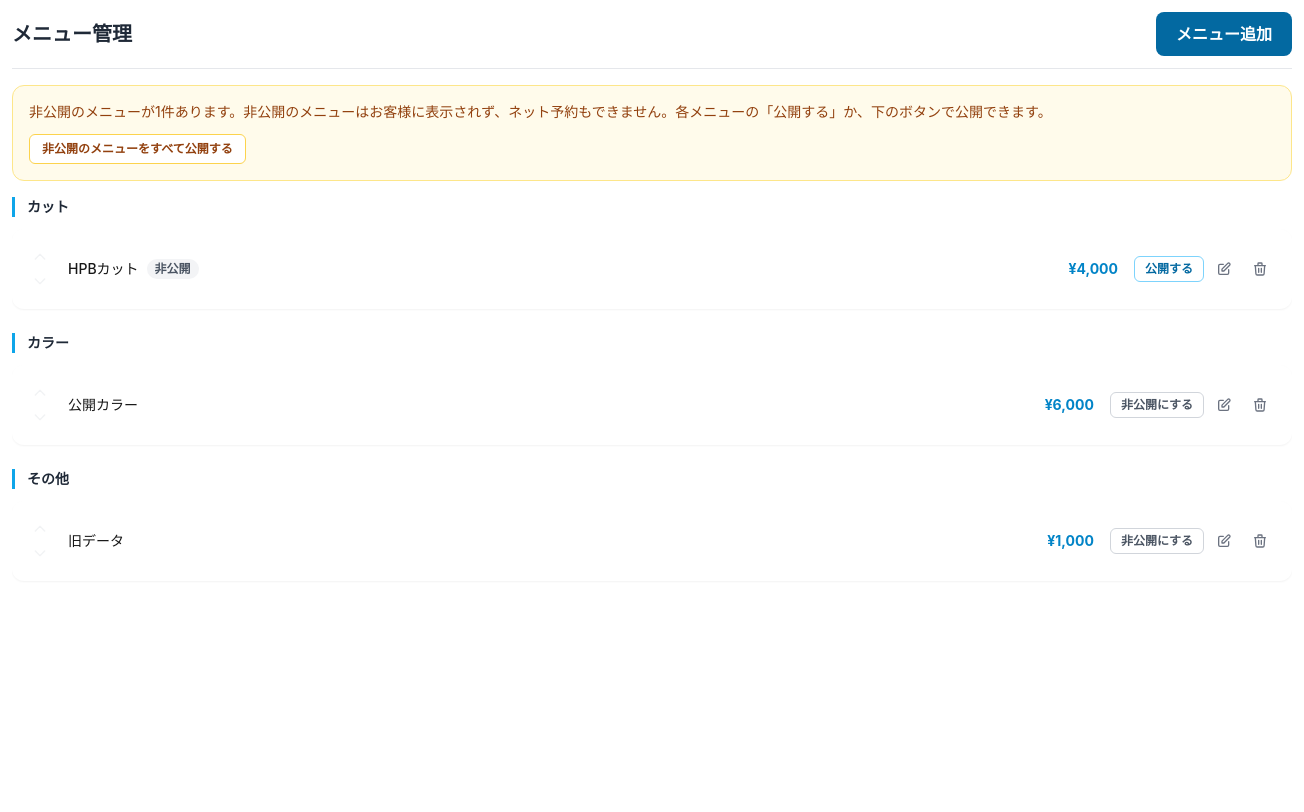
Test: 公開中のメニューは非公開にできる
expect the text "公開カラー" is shown: met, box x1=68 y1=395 x2=138 y2=415
What coordinates should you click on to do the following:
click the button with aria-label "公開カラーを非公開にする"
I would click on:
 (1157, 405)
Its box is x1=1110 y1=392 x2=1204 y2=418.
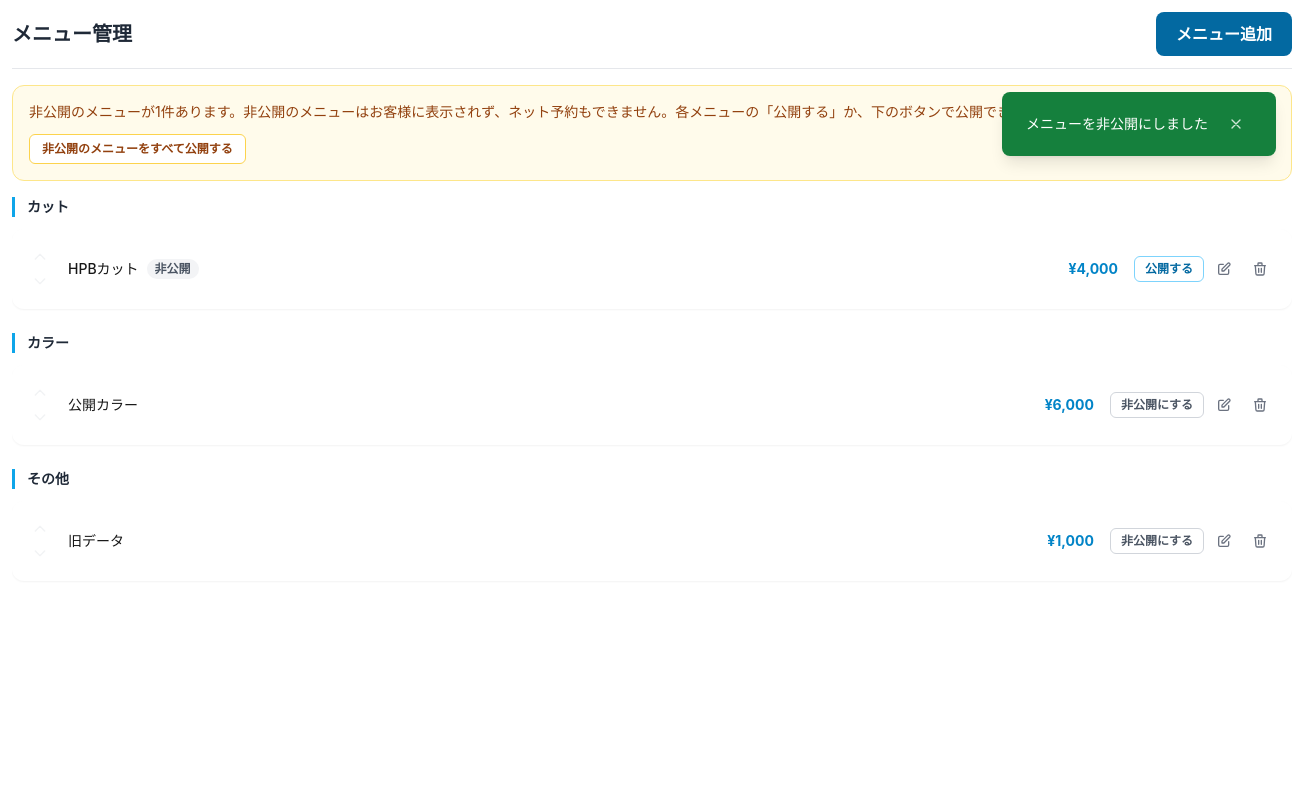
expect the text "メニューを非公開にしました" is shown: met, box x1=1026 y1=114 x2=1208 y2=134
